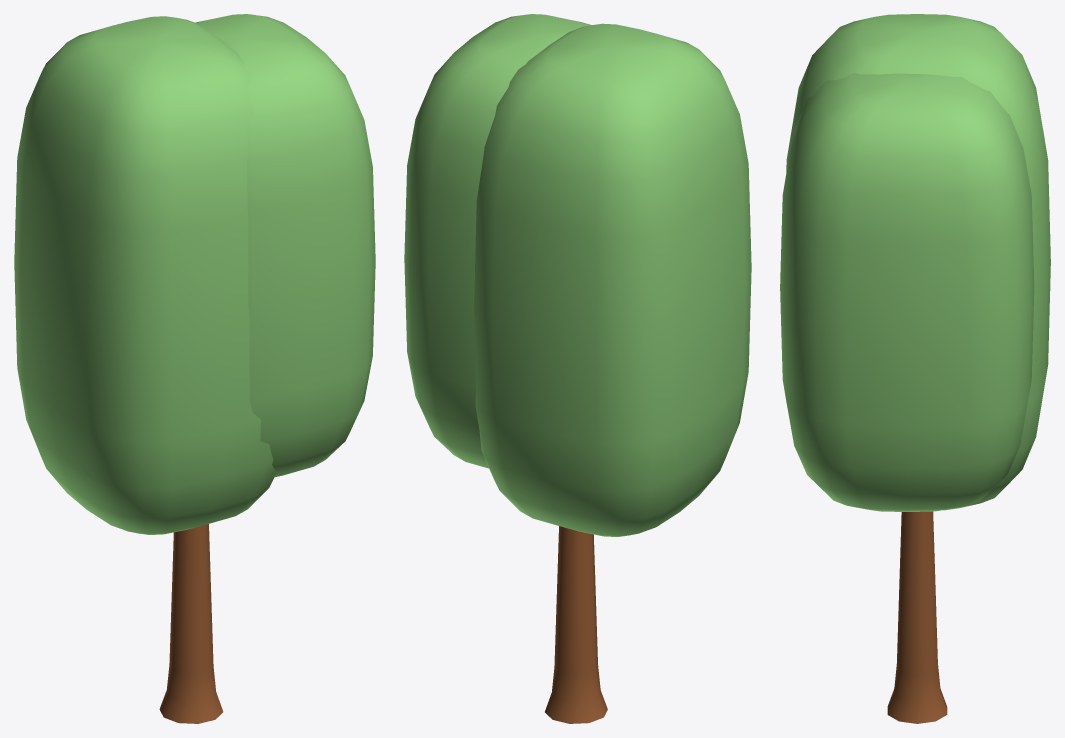
The model's file is arvore_oval_alta.glb.
The picture shows the model from 3 angles, left to right: view 1: azimuth 30°, elevation 25°; view 2: azimuth 150°, elevation 25°; view 3: azimuth 270°, elevation 25°; orthographic projection. The views are drawn at different scales.
Visible parts, largest first — view 1: arvore_oval_alta; view 2: arvore_oval_alta; view 3: arvore_oval_alta.
Boxes of the visible parts, bbox=[...] form: arvore_oval_alta: bbox=[14, 14, 375, 723]; arvore_oval_alta: bbox=[404, 14, 751, 723]; arvore_oval_alta: bbox=[780, 14, 1050, 723].
Size of the model in its own units: 2.53 by 5.75 by 2.13.
1 material, 1 textured.
